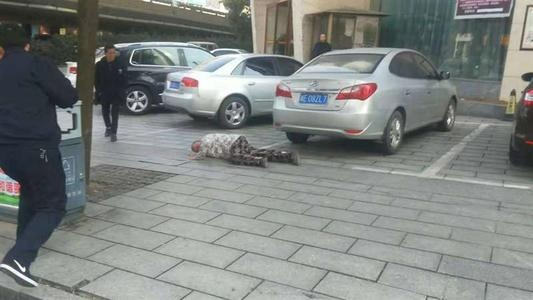falling: (183, 128, 302, 175)
